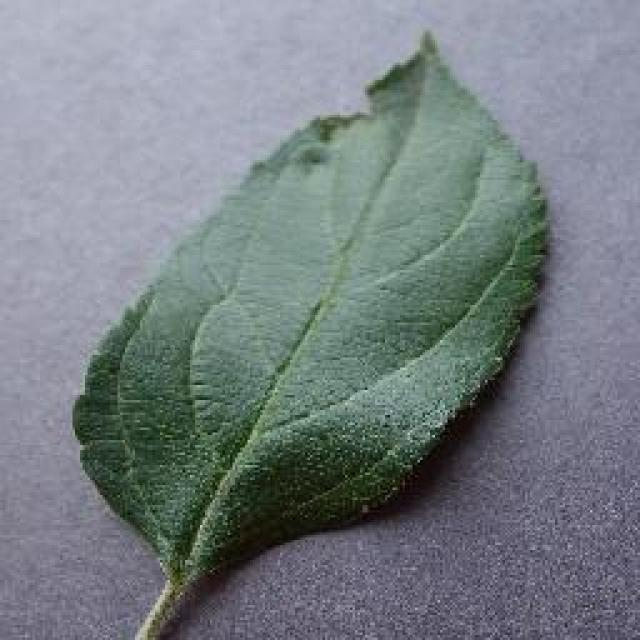apple healthy: (68, 28, 552, 638)
